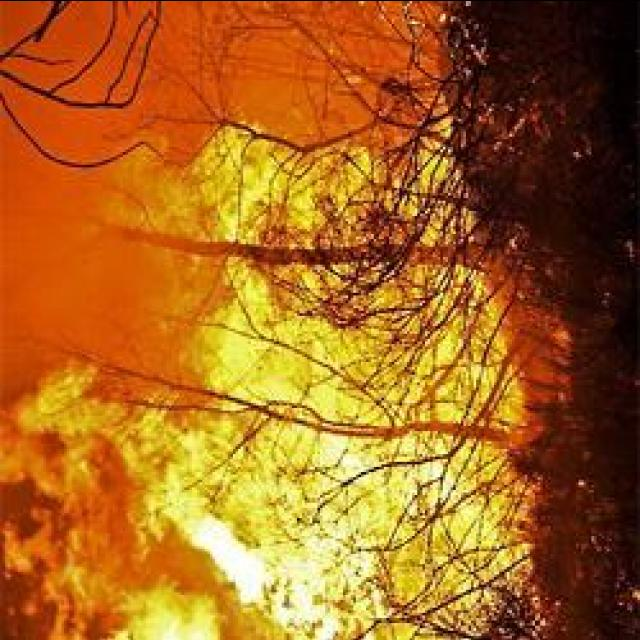fire: (200, 292, 482, 449), (191, 132, 433, 298), (166, 486, 406, 640), (9, 414, 149, 640), (401, 450, 527, 624)
smoke: (36, 404, 162, 554)
